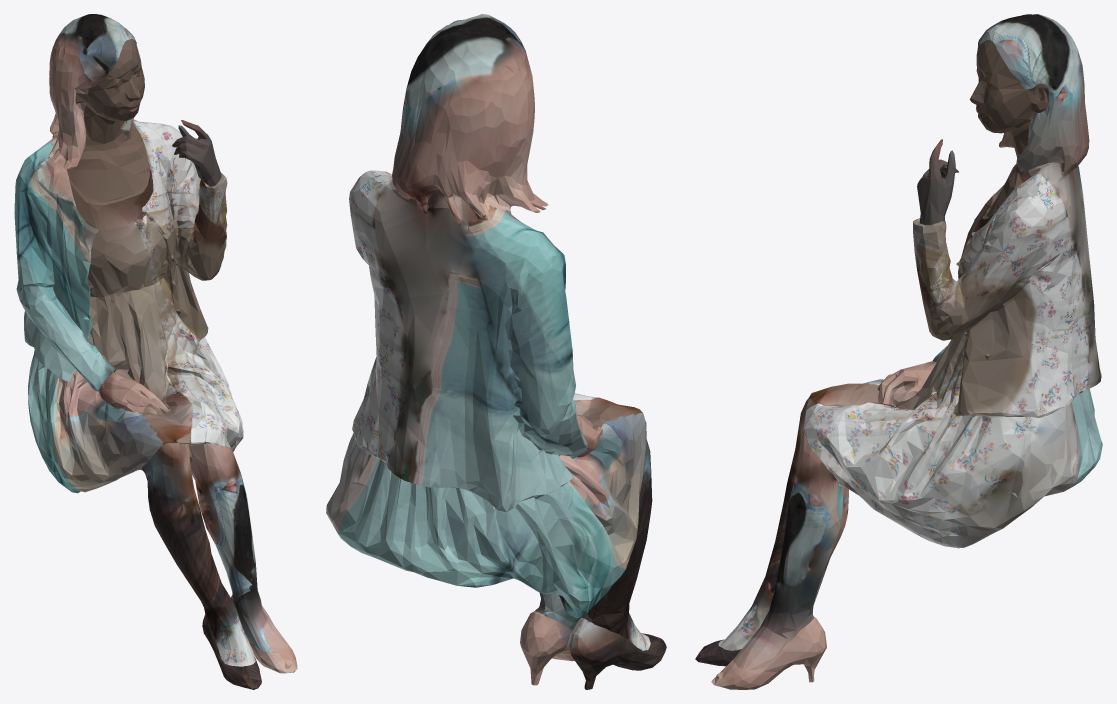
Rendered from 091_W_Aya_10K.obj.
The picture shows the model from 3 angles, left to right: view 1: azimuth 30°, elevation 25°; view 2: azimuth 150°, elevation 25°; view 3: azimuth 270°, elevation 25°; orthographic projection. The views are drawn at different scales.
Parts seen in each view (by area): view 1: 091_W_Aya_100K_01; view 2: 091_W_Aya_100K_01; view 3: 091_W_Aya_100K_01.
Boxes of the visible parts, left/top/right/bottom form: 091_W_Aya_100K_01: left=14, top=14, right=297, bottom=689; 091_W_Aya_100K_01: left=326, top=14, right=666, bottom=689; 091_W_Aya_100K_01: left=695, top=14, right=1102, bottom=689.
Bounding box in the file's own units: 423 × 1317 × 766.
